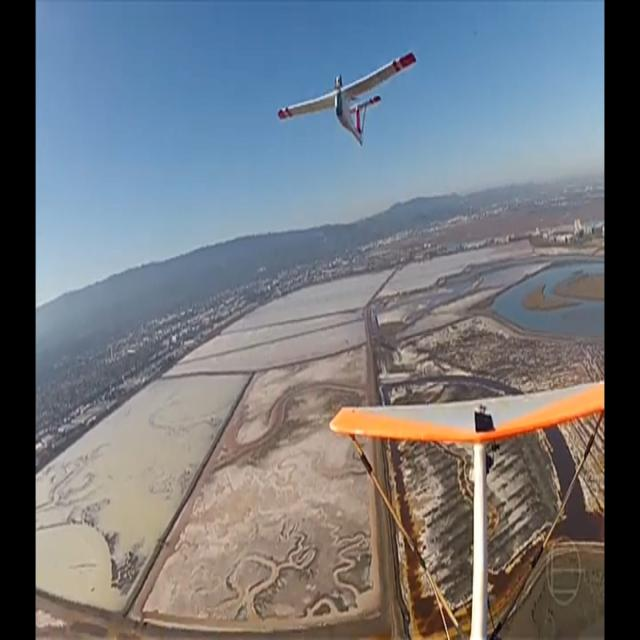iha: (280, 18, 414, 51)
